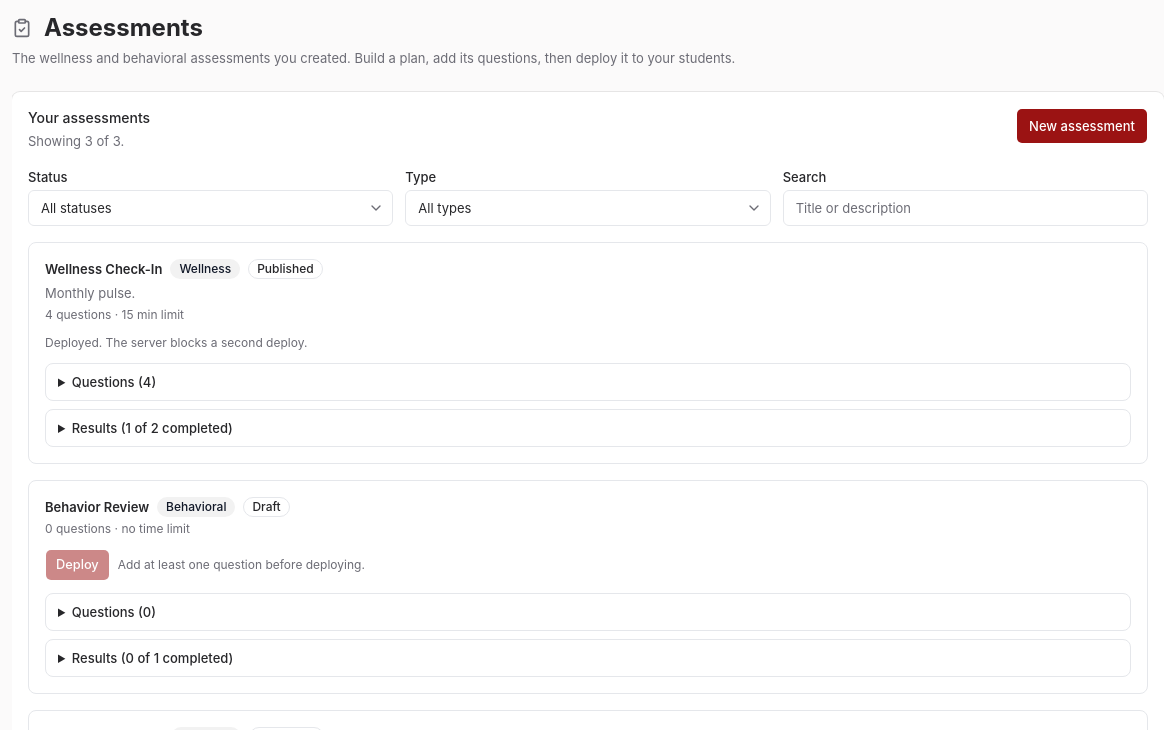
Test: AssessmentsPage › filters by assessment type
The image size is (1164, 730).
Expected: the heading "Wellness Check-In" is shown, [45,259,162,279]
Press ArrowDown in the dropdown labelled "type", box [405,190,771,226]
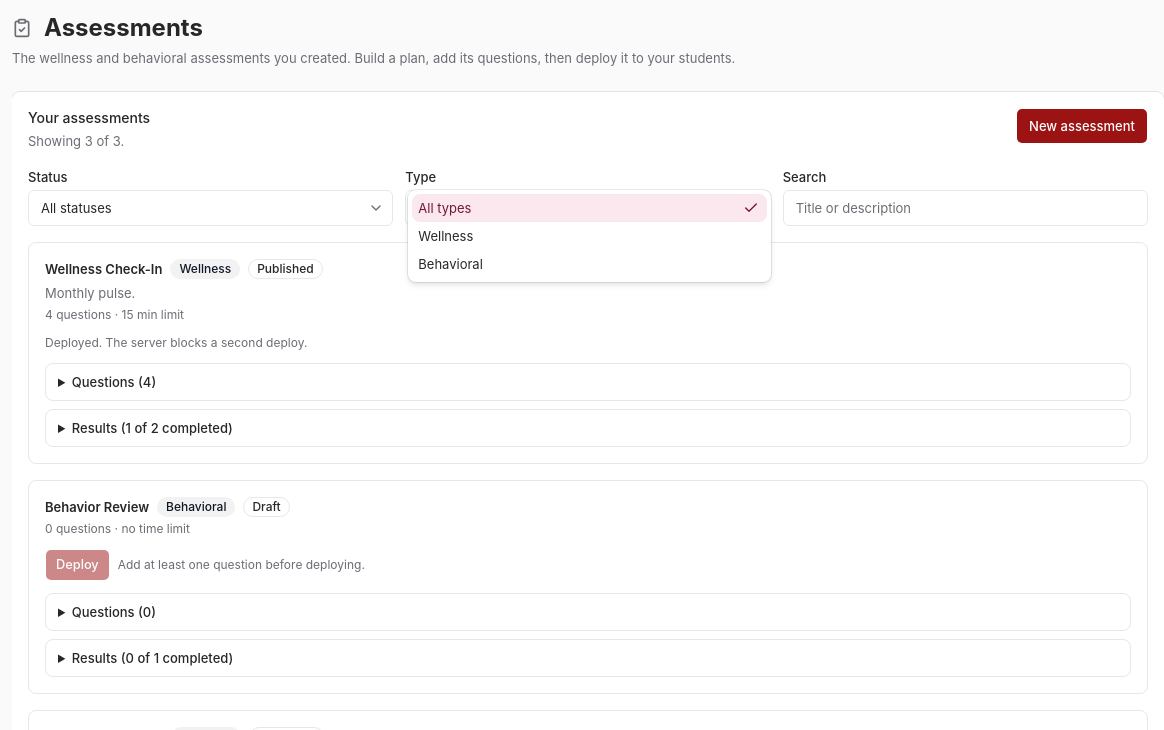
Click the option "Behavioral". click: point(451, 264)
box: [418,256,483,272]
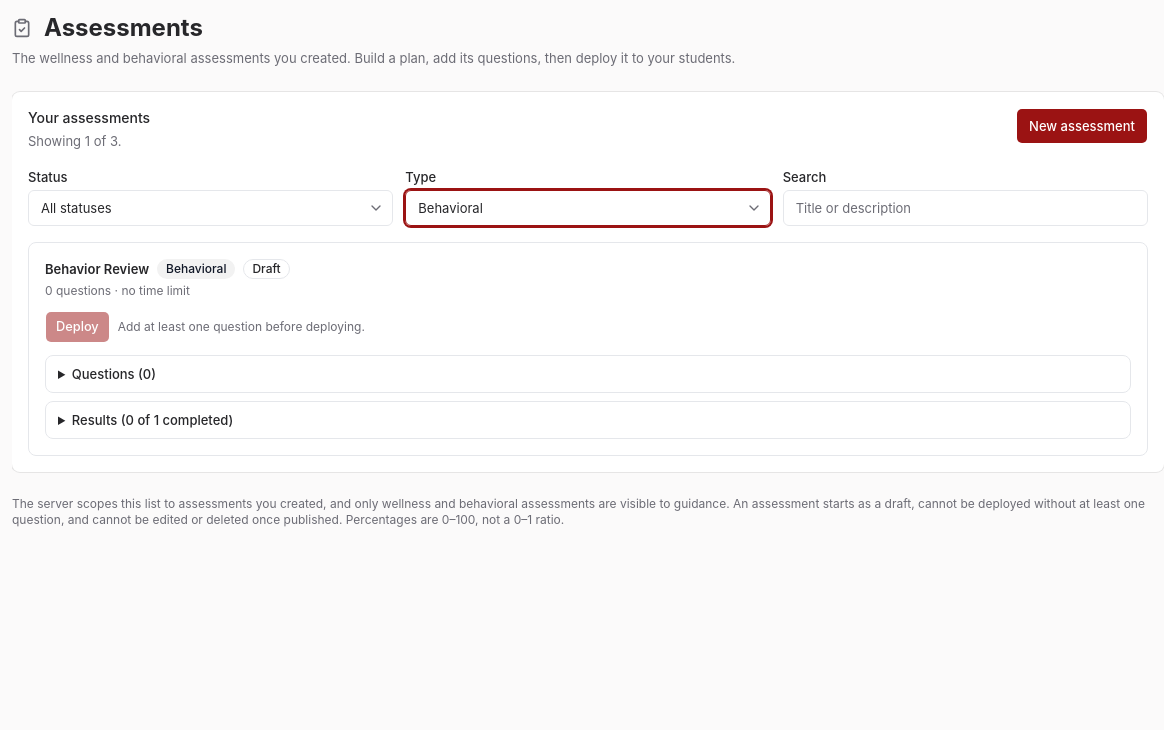
Expected: the heading "Behavior Review" is shown, [45,259,149,279]
Expected: the heading "Wellness Check-In" is gone
